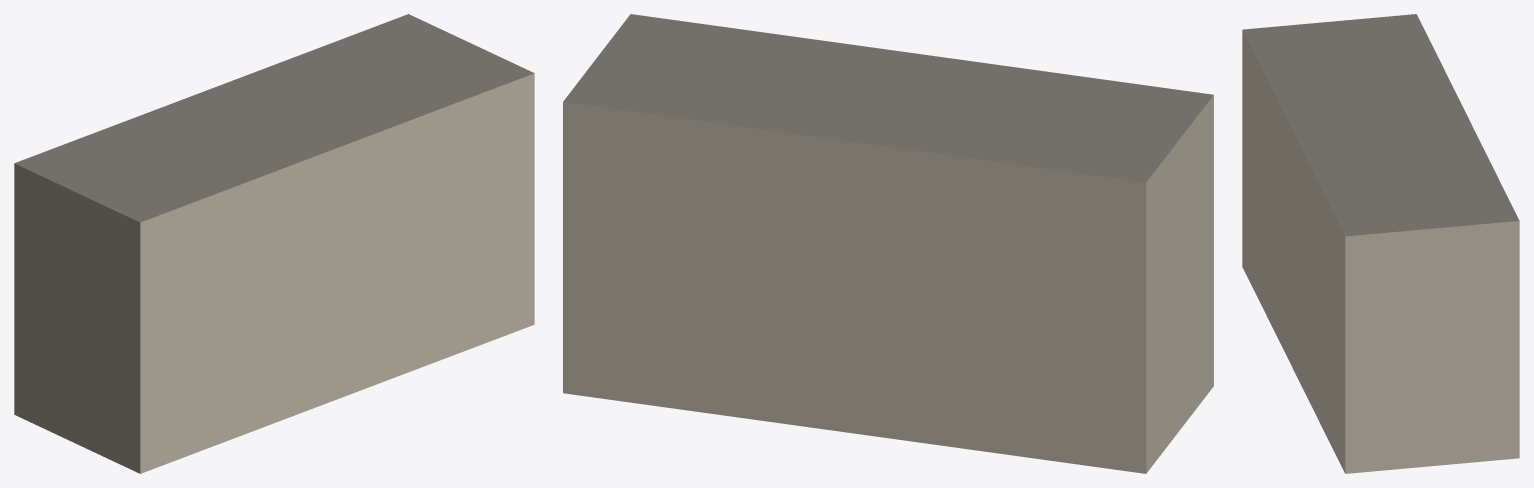
3 views of the same model, side by side, from view 1: azimuth 30°, elevation 25°; view 2: azimuth 150°, elevation 25°; view 3: azimuth 270°, elevation 25° (orthographic). The views are drawn at different scales.
Visible parts, largest first — view 1: HP-w1286955524; view 2: HP-w1286955524; view 3: HP-w1286955524.
Boxes of the visible parts, bbox=[...] form: HP-w1286955524: bbox=[14, 14, 534, 473]; HP-w1286955524: bbox=[563, 14, 1213, 473]; HP-w1286955524: bbox=[1242, 14, 1519, 473].
Size of the model in its own units: 36.17 by 18 by 19.04.
